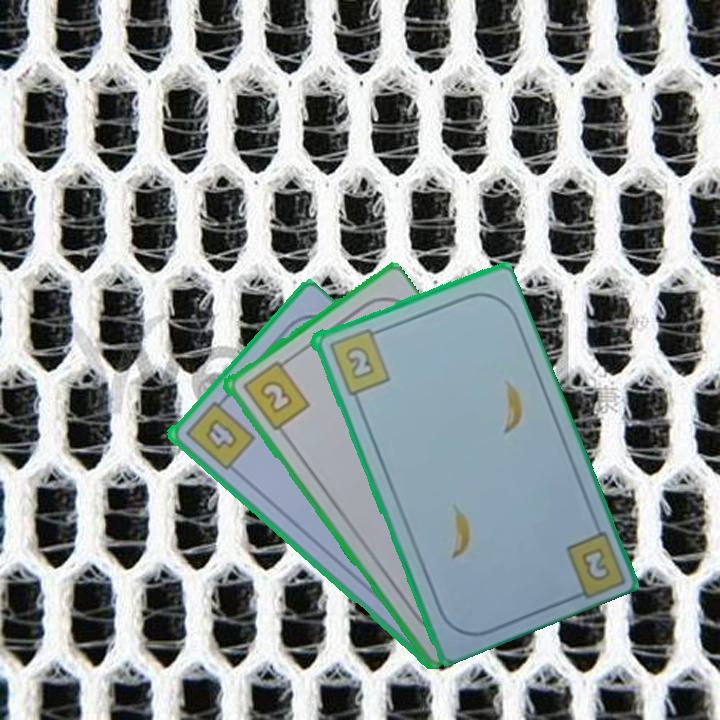2b: (238, 354, 312, 433), (324, 324, 393, 398), (577, 543, 613, 584)
4b: (180, 392, 257, 473)
